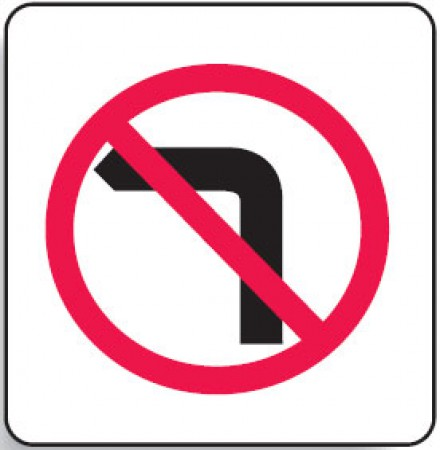No_left_turn: (45, 64, 389, 393)
